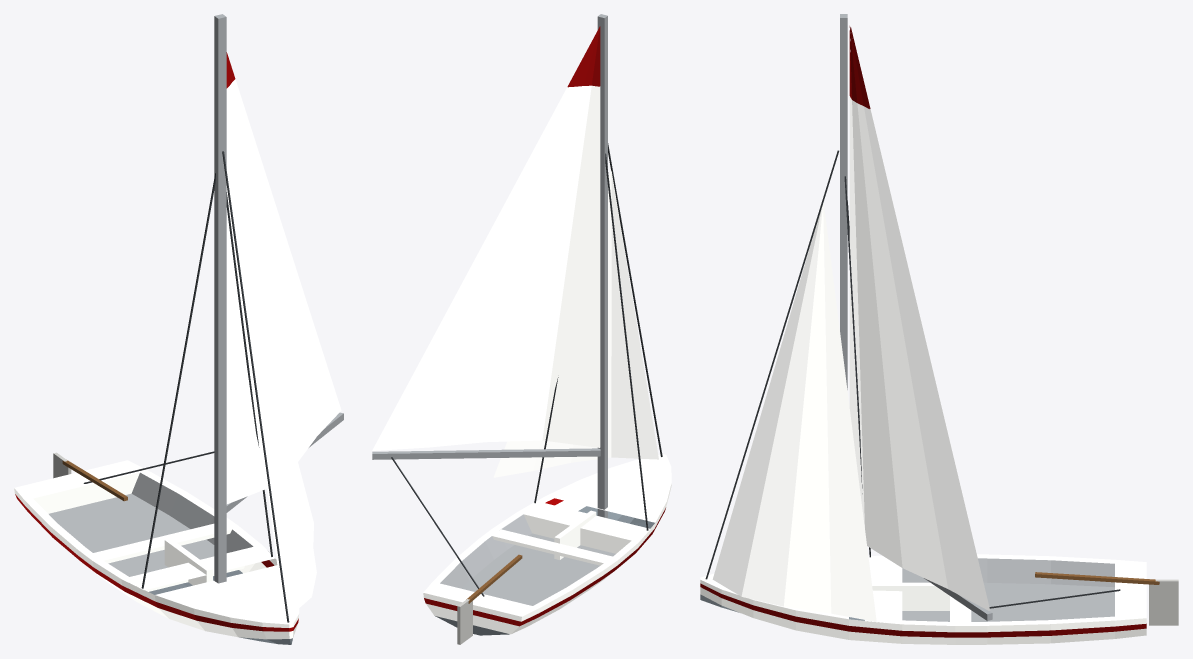
Rendered from sailboat-run.glb.
3 renders of one model, left to right at view 1: azimuth 30°, elevation 25°; view 2: azimuth 150°, elevation 25°; view 3: azimuth 270°, elevation 25°, orthographic. The views are drawn at different scales.
Parts seen in each view (by area): view 1: sailboat; view 2: sailboat; view 3: sailboat.
Boxes of the visible parts, x1=… form: sailboat: x1=14, y1=14, x2=343, y2=644; sailboat: x1=372, y1=14, x2=671, y2=644; sailboat: x1=700, y1=14, x2=1178, y2=644.
Size of the model in its own units: 2.94 by 6.36 by 4.5.
